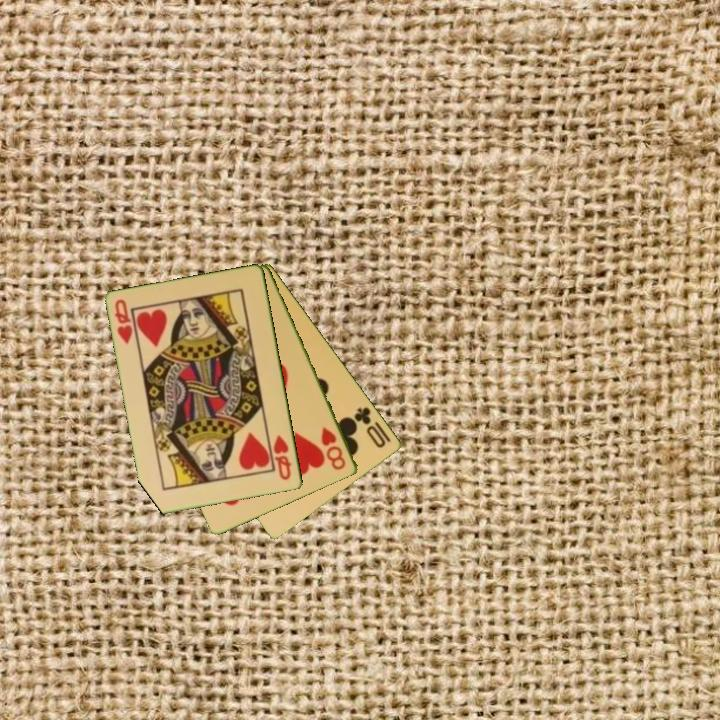10c: (351, 403, 389, 451)
8h: (318, 424, 349, 473)
Qh: (270, 431, 295, 483), (111, 296, 136, 348)
